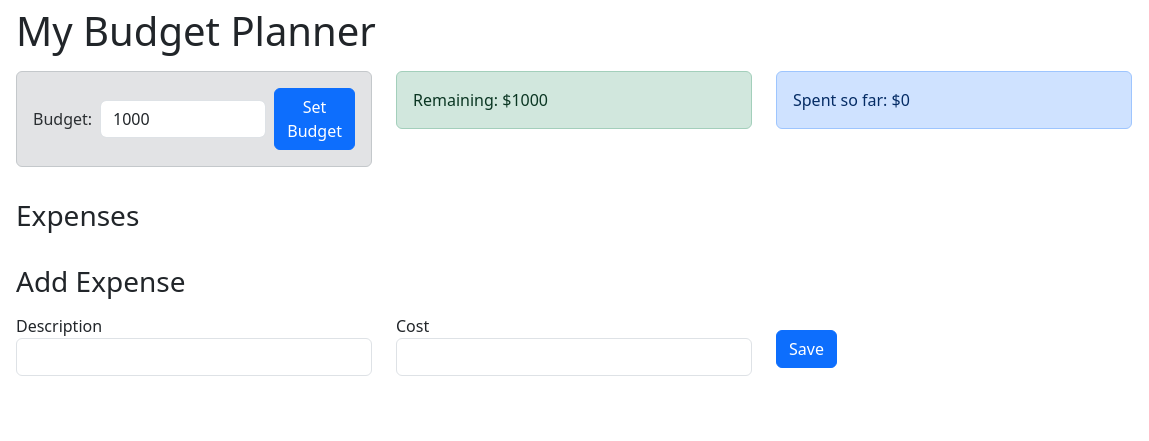
it: delete expense
Type "New Expense" into the field with test id "name". click: (194, 357)
box: [16,338,372,376]
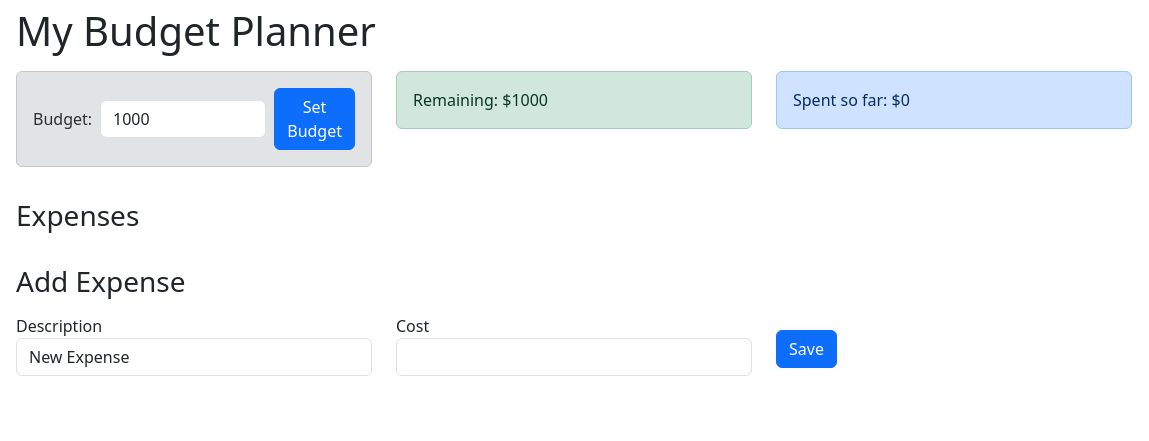
Type "100" into the field with test id "cost". click: (574, 357)
box: [396,338,752,376]
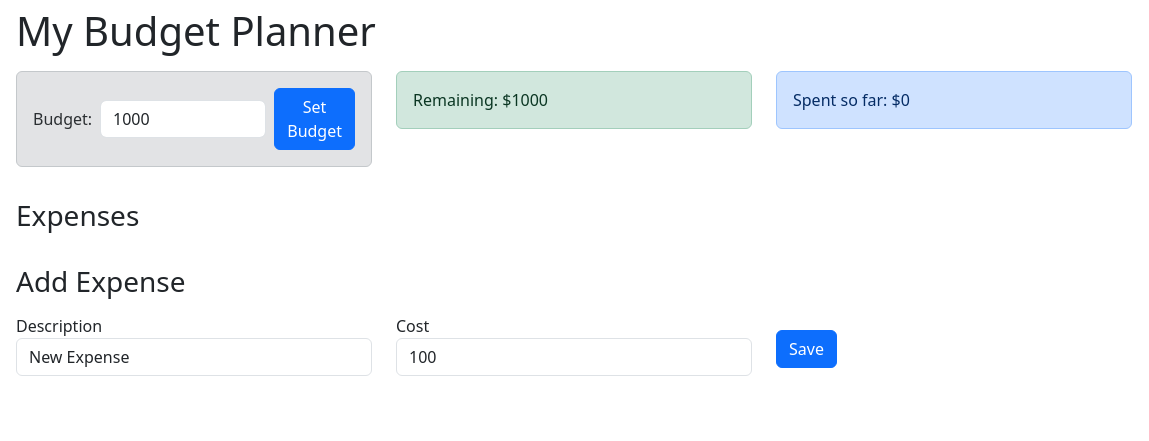
Click the button "Save". click: (806, 349)
box: [776,330,837,368]
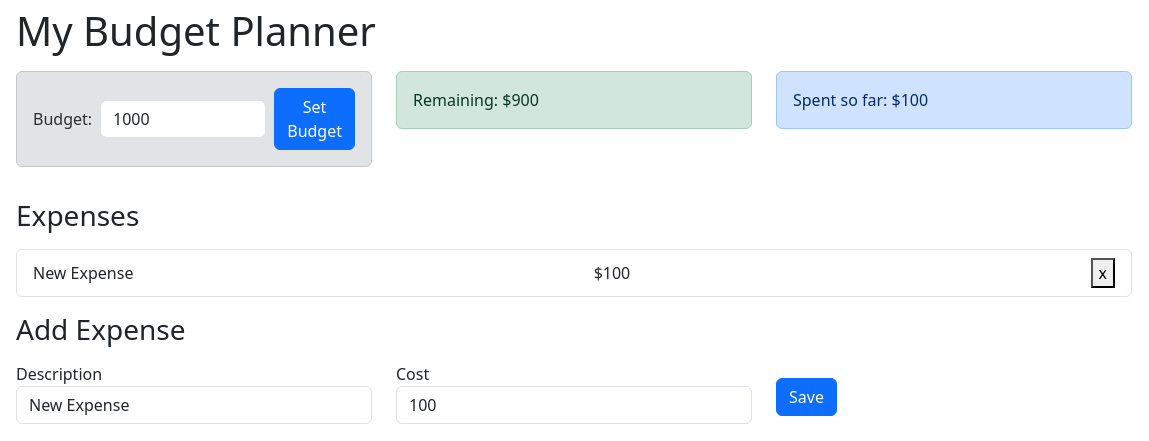
Expected: the text "New Expense" is shown, [33,261,133,285]
Expected: the text "Remaining: $900" is shown, [413,89,539,111]
Expected: the text "Spent so far: $100" is shown, [793,89,928,111]
Click the button "x". click: (1103, 273)
box: [1090,258,1115,288]
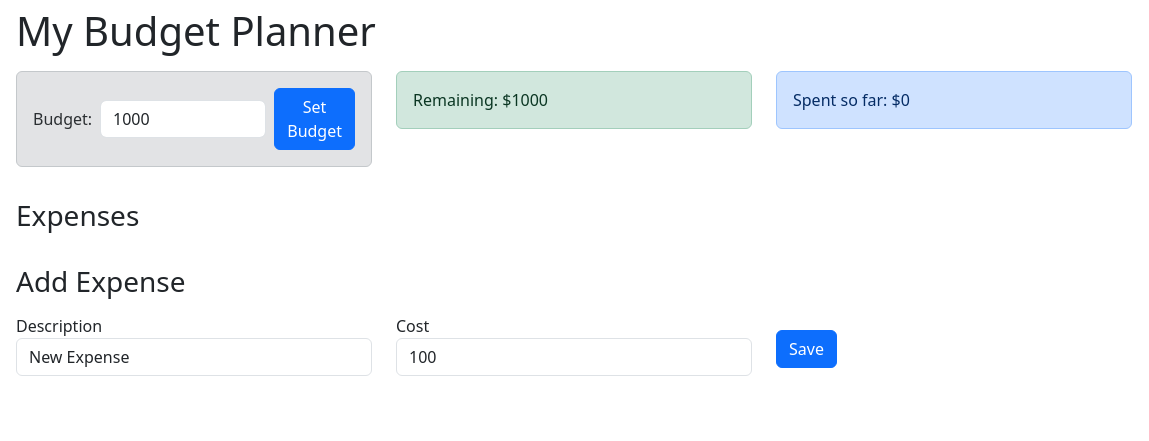
Expected: the text "Remaining: $1000" is shown, [413,89,548,111]
Expected: the text "Spent so far: $0" is shown, [793,89,910,111]
